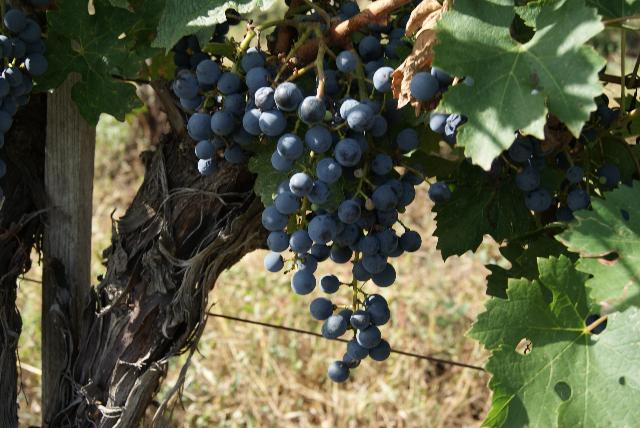grapes: (291, 68, 468, 382), (235, 68, 365, 295), (172, 59, 242, 174)
